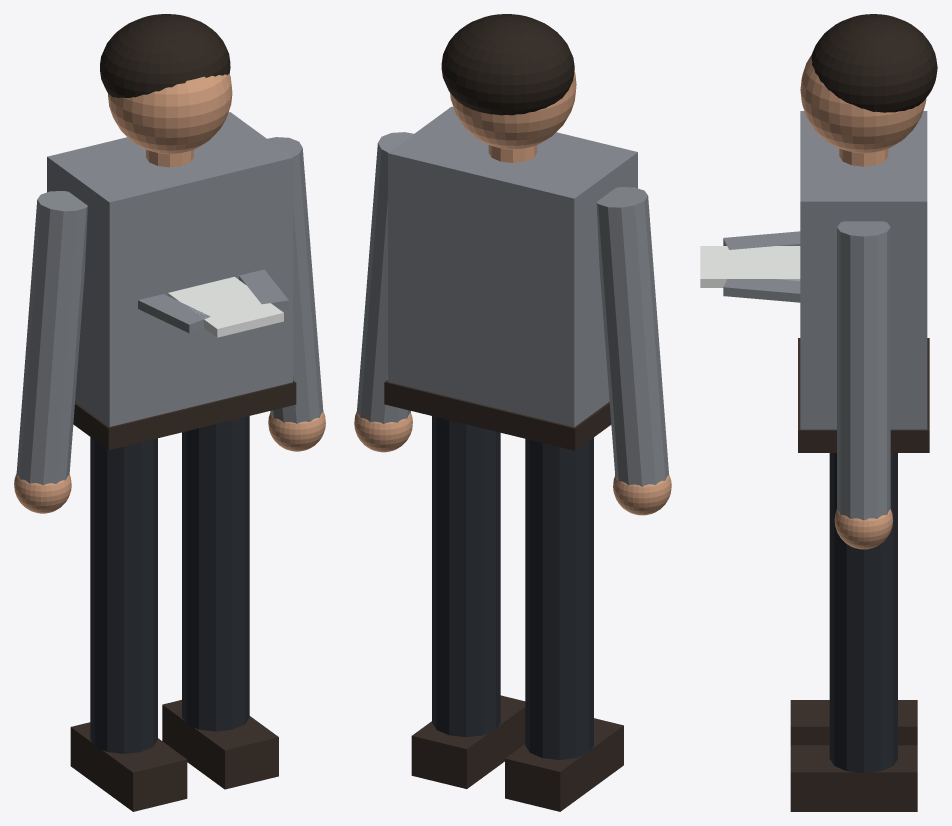
The model's file is npc.glb.
The picture shows the model from 3 angles, left to right: view 1: azimuth 30°, elevation 25°; view 2: azimuth 150°, elevation 25°; view 3: azimuth 270°, elevation 25°; orthographic projection.
Parts seen in each view (by area): view 1: torso, leg, leg.001, arm_l, hair, head, arm_r, shoe, shoe.001, belt, shirt, hand_l (+4 smaller); view 2: torso, leg, leg.001, arm_l, hair, arm_r, shoe, shoe.001, belt, head, hand_l, hand_r (+1 smaller); view 3: torso, leg.001, arm_r, hair, shoe.001, head, shirt, shoe, belt, hand_r, lapel.001, lapel (+1 smaller).
Part boxes in pixels (x1,y1,x2,y2): torso: [47, 112, 292, 426]; leg: [90, 437, 157, 753]; leg.001: [182, 416, 249, 731]; arm_l: [16, 191, 87, 485]; hair: [100, 14, 230, 97]; head: [108, 74, 232, 154]; arm_r: [267, 137, 323, 423]; shoe: [70, 722, 187, 811]; shoe.001: [162, 700, 278, 789]; belt: [73, 380, 296, 449]; shirt: [168, 276, 283, 337]; hand_l: [14, 474, 71, 513]; torso: [388, 106, 637, 427]; leg: [525, 437, 593, 759]; leg.001: [432, 416, 500, 737]; arm_l: [596, 187, 668, 486]; hair: [441, 14, 574, 115]; arm_r: [357, 132, 413, 423]; shoe: [505, 718, 623, 811]; shoe.001: [411, 695, 525, 788]; belt: [384, 380, 611, 450]; head: [450, 71, 576, 149]; hand_l: [613, 474, 671, 515]; hand_r: [354, 411, 412, 452]; torso: [800, 111, 927, 429]; leg.001: [829, 453, 897, 772]; arm_r: [837, 221, 890, 520]; hair: [811, 14, 937, 112]; shoe.001: [790, 745, 917, 811]; head: [800, 54, 926, 153]; shirt: [700, 246, 800, 287]; shoe: [790, 700, 917, 745]; belt: [798, 338, 929, 452]; hand_r: [834, 509, 892, 549]; lapel.001: [723, 279, 800, 302]; lapel: [723, 231, 800, 249].
Bounding box in the file's own units: 0.73 × 1.7 × 0.4861.
